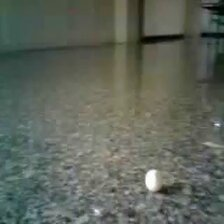w: (145, 169, 164, 191)
